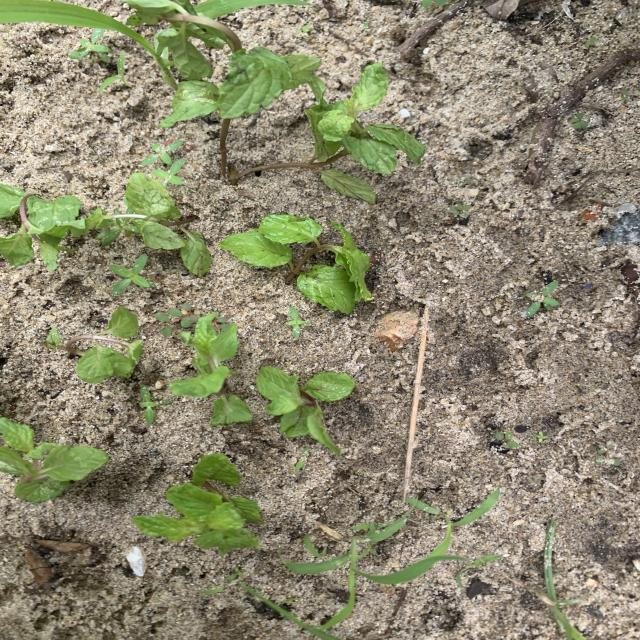crop: (1, 172, 211, 273), (220, 216, 372, 311), (134, 454, 262, 554), (1, 417, 107, 502), (172, 314, 251, 424), (257, 368, 354, 452), (46, 306, 142, 382)
weed: (285, 522, 469, 640), (537, 519, 585, 639), (453, 488, 500, 527), (111, 255, 152, 293), (70, 29, 111, 61), (525, 281, 559, 315), (155, 305, 198, 331), (140, 385, 168, 424), (98, 53, 125, 91), (142, 141, 182, 165), (153, 159, 183, 183), (286, 307, 307, 337), (492, 431, 519, 454), (406, 497, 440, 515), (294, 446, 308, 471), (450, 204, 470, 219), (571, 113, 589, 129), (226, 567, 243, 580), (199, 587, 223, 594), (422, 1, 447, 7), (534, 432, 547, 442), (296, 25, 310, 34), (584, 37, 595, 47), (621, 89, 630, 99)
